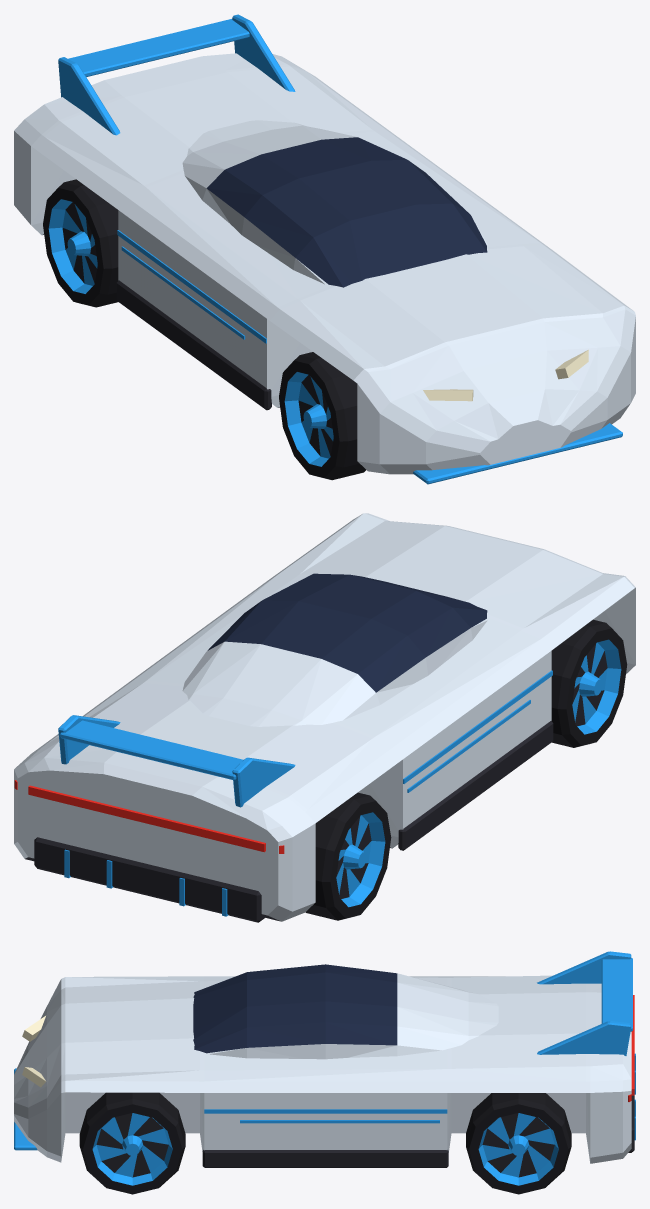
File: Car_frost.fbx
The picture shows the model from 3 angles, top to bottom: view 1: azimuth 30°, elevation 25°; view 2: azimuth 150°, elevation 25°; view 3: azimuth 270°, elevation 25°; orthographic projection. The views are drawn at different scales.
Parts seen in each view (by area): view 1: Body, Wheel_FL, Wheel_RL; view 2: Body, Wheel_RL, Wheel_FL; view 3: Body, Wheel_FR, Wheel_RR.
Boxes of the visible parts, left/top/right/bottom form: Body: left=14, top=14, right=635, bottom=484; Wheel_FL: left=279, top=352, right=365, bottom=480; Wheel_RL: left=43, top=179, right=118, bottom=307; Body: left=14, top=513, right=635, bottom=922; Wheel_RL: left=305, top=792, right=391, bottom=920; Wheel_FL: left=551, top=619, right=627, bottom=747; Body: left=14, top=951, right=635, bottom=1167; Wheel_FR: left=79, top=1092, right=185, bottom=1194; Wheel_RR: left=466, top=1093, right=571, bottom=1194.
Size of what is drawn, in the model's own units: 1.92 by 1.18 by 4.35.
